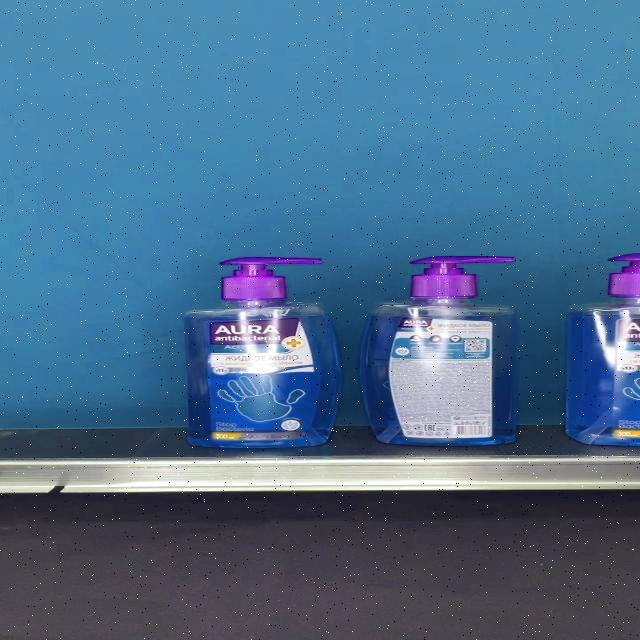Bottle: (182, 256, 341, 448), (359, 256, 518, 446)
Cap: (221, 257, 322, 300), (410, 256, 514, 297)
